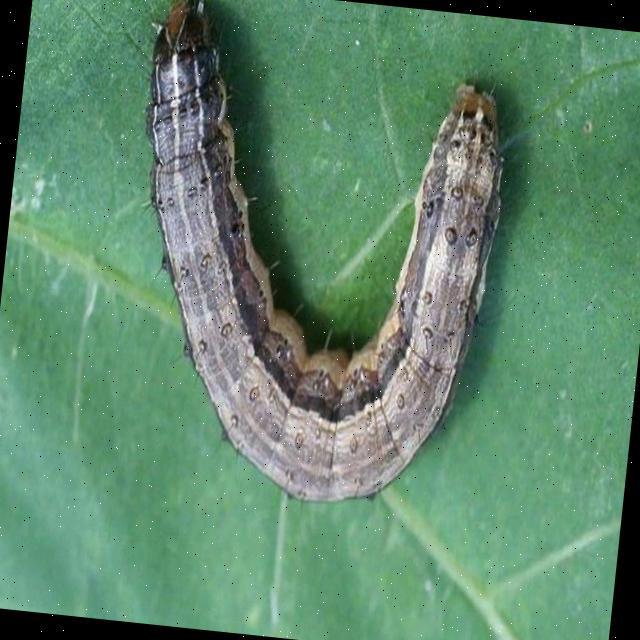worm: (104, 1, 523, 522)
